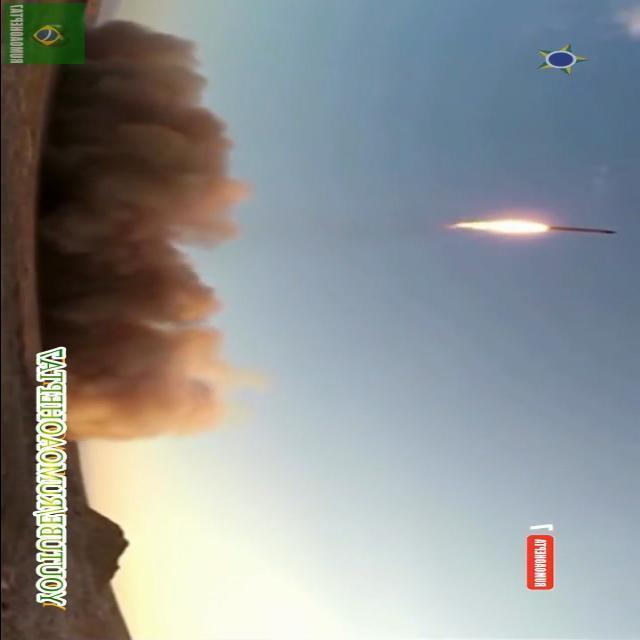missile: (548, 220, 616, 236)
